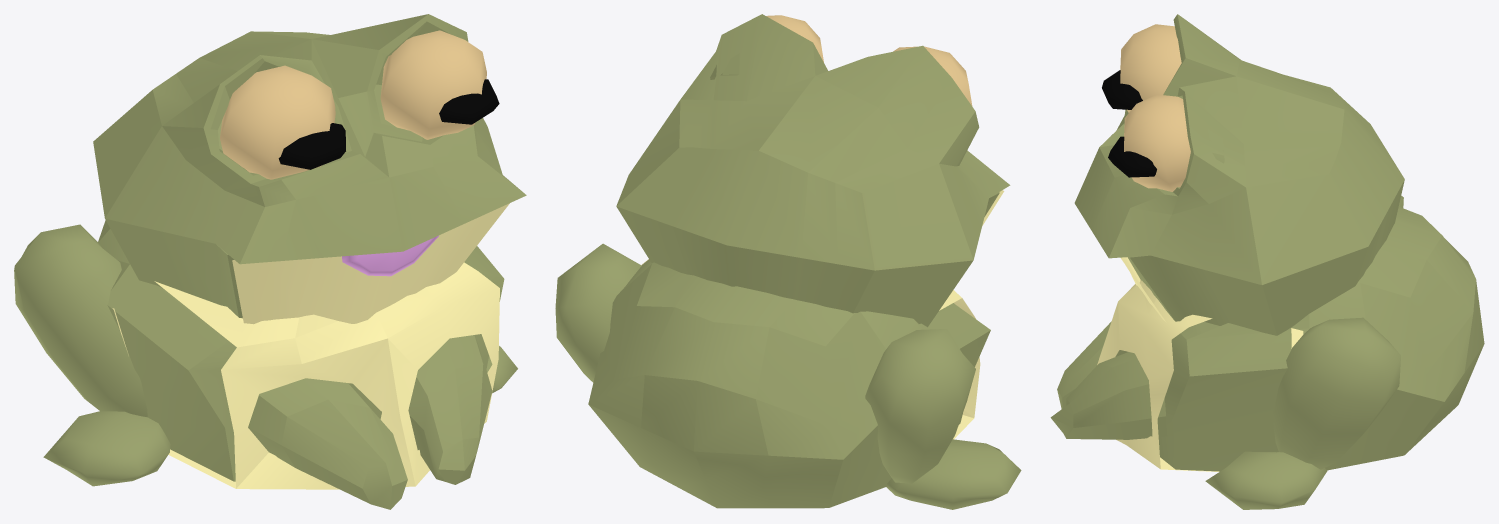
The model's file is frog.glb.
The picture shows the model from 3 angles, left to right: view 1: azimuth 30°, elevation 25°; view 2: azimuth 150°, elevation 25°; view 3: azimuth 270°, elevation 25°; orthographic projection. The views are drawn at different scales.
Parts seen in each view (by area): view 1: head, Cube 26, Cube 31, Cube 27, yellowparthead, Sphere 12, Sphere 13, Cube 28.001, Sphere 15, tongue, Sphere 14, Cube 29; view 2: head, Cube 26, Cube 27, Cube 28, Cube 28.001, Cube 31, Sphere 12, Sphere 13; view 3: head, Cube 26, Cube 28, Cube 31, Cube 29, Sphere 13, Sphere 12, Sphere 14, Sphere 15.
Part boxes in pixels (bbox=[...]): head: bbox=[93, 14, 526, 318]; Cube 26: bbox=[98, 220, 504, 509]; Cube 31: bbox=[112, 262, 499, 489]; Cube 27: bbox=[14, 224, 147, 417]; yellowparthead: bbox=[232, 203, 509, 324]; Sphere 12: bbox=[220, 65, 335, 179]; Sphere 13: bbox=[380, 30, 486, 139]; Cube 28.001: bbox=[43, 411, 170, 486]; Sphere 15: bbox=[278, 123, 345, 169]; tongue: bbox=[342, 235, 438, 276]; Sphere 14: bbox=[439, 79, 499, 124]; Cube 29: bbox=[486, 346, 517, 393]; head: bbox=[616, 14, 1010, 327]; Cube 26: bbox=[588, 259, 990, 508]; Cube 27: bbox=[865, 329, 975, 483]; Cube 28: bbox=[555, 243, 641, 382]; Cube 28.001: bbox=[886, 439, 1021, 509]; Cube 31: bbox=[641, 259, 980, 439]; Sphere 12: bbox=[893, 46, 972, 105]; Sphere 13: bbox=[766, 15, 823, 62]; head: bbox=[1074, 14, 1404, 335]; Cube 26: bbox=[1050, 207, 1484, 471]; Cube 28: bbox=[1273, 317, 1400, 469]; Cube 31: bbox=[1097, 280, 1303, 471]; Cube 29: bbox=[1205, 451, 1327, 509]; Sphere 13: bbox=[1124, 94, 1190, 191]; Sphere 12: bbox=[1120, 24, 1181, 112]; Sphere 14: bbox=[1108, 136, 1156, 177]; Sphere 15: bbox=[1102, 70, 1142, 109].
Size of the model in its own units: 3.83 by 3.5 by 3.59.
